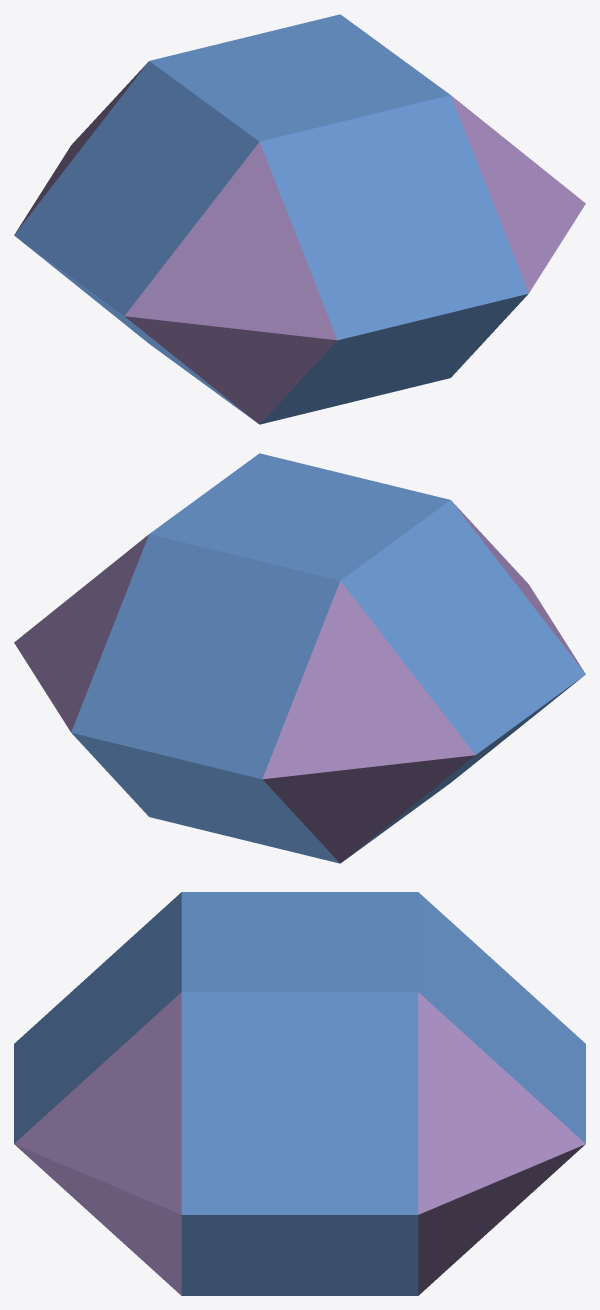
The model's file is J28.OrtobicupulaCuadrada.gltf.
3 renders of one model, top to bottom at view 1: azimuth 30°, elevation 25°; view 2: azimuth 150°, elevation 25°; view 3: azimuth 270°, elevation 25°, orthographic. The views are drawn at different scales.
Visible parts, largest first — view 1: J28.OrtobicupulaCuadrada; view 2: J28.OrtobicupulaCuadrada; view 3: J28.OrtobicupulaCuadrada.
Part boxes in pixels (left/top/right/bottom): J28.OrtobicupulaCuadrada: left=14, top=14, right=585, bottom=424; J28.OrtobicupulaCuadrada: left=14, top=453, right=585, bottom=863; J28.OrtobicupulaCuadrada: left=14, top=892, right=585, bottom=1295.
Bounding box in the file's own units: 18.48 × 10.82 × 18.48.
